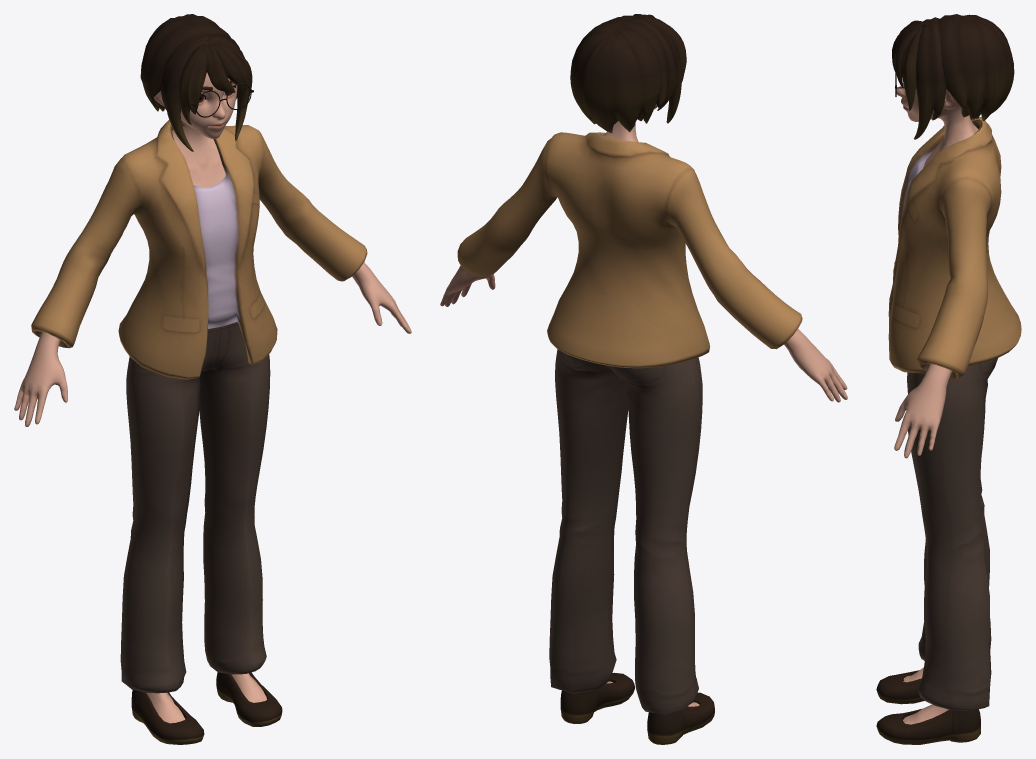
File: Pebbles_Mesh.obj
3 views of the same model, side by side, from view 1: azimuth 30°, elevation 25°; view 2: azimuth 150°, elevation 25°; view 3: azimuth 270°, elevation 25° (orthographic). The views are drawn at different scales.
Parts seen in each view (by area): view 1: Pebbles_Mesh_0; view 2: Pebbles_Mesh_0; view 3: Pebbles_Mesh_0.
Part boxes in pixels (<box>): Pebbles_Mesh_0: <box>14,14,411,744</box>; Pebbles_Mesh_0: <box>440,14,847,744</box>; Pebbles_Mesh_0: <box>876,14,1021,744</box>.
Size of the model in its own units: 1.06 by 1.8 by 0.3384.
Materials: 1 (1 with a texture image).
